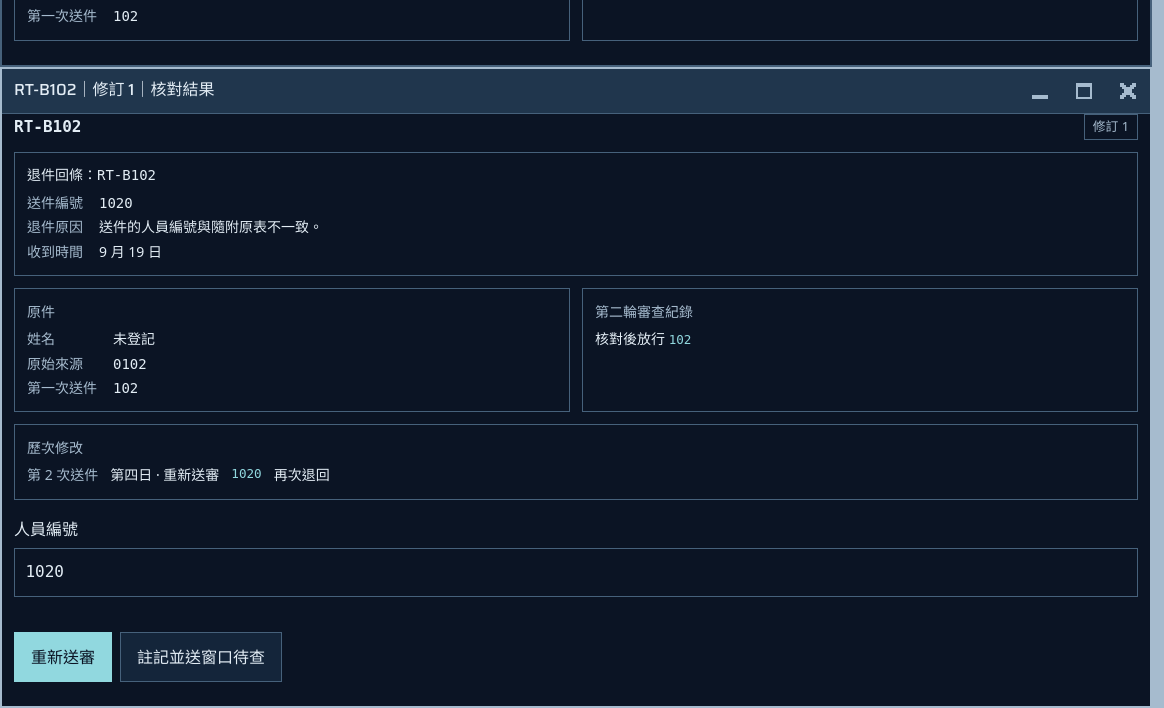
Test: MailAttachmentWindowsComponent（R12 版本鎖定附件） › 兩個視窗：處理中另一個入口先送出時，本次提交以失敗結束、不覆寫新版本；同案所有視窗改為唯讀
The image size is (1164, 708).
(page scrolled)
Expected: the form is shown, [14,512,1138,682]
Replace the text in the field labelled "人員編號" with "0102": (576, 573) [14,548,1138,597]
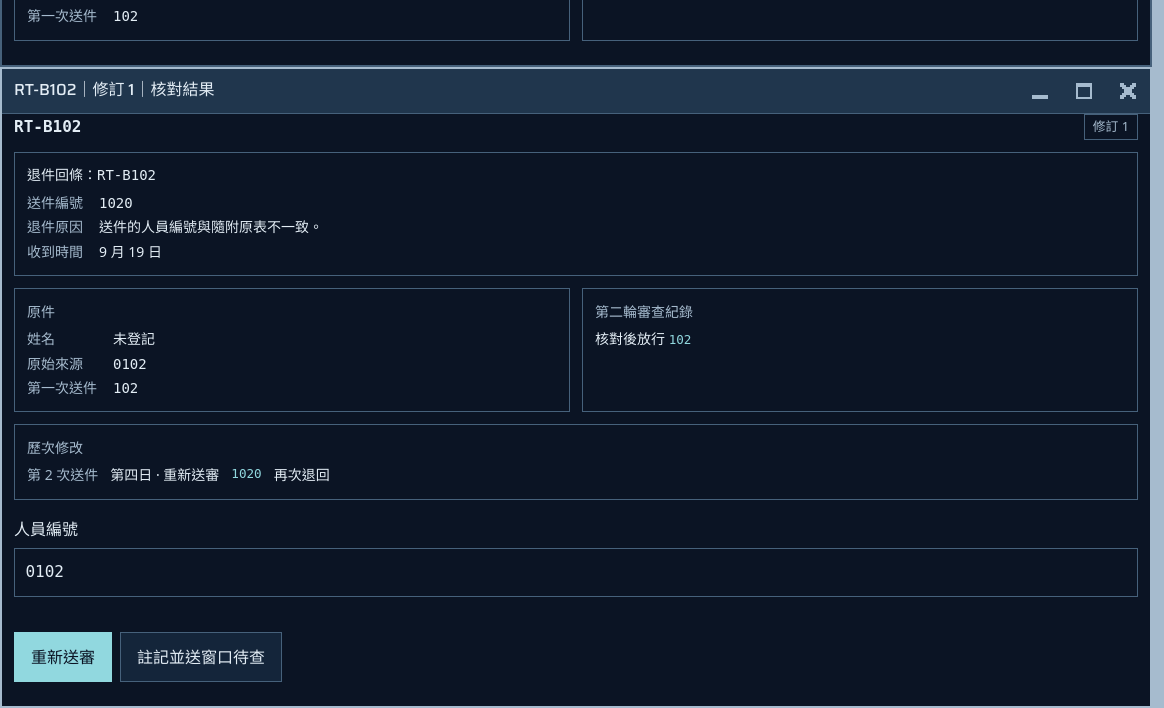
Click the button "重新送審": (63, 657) [14,632,112,682]
(page scrolled)
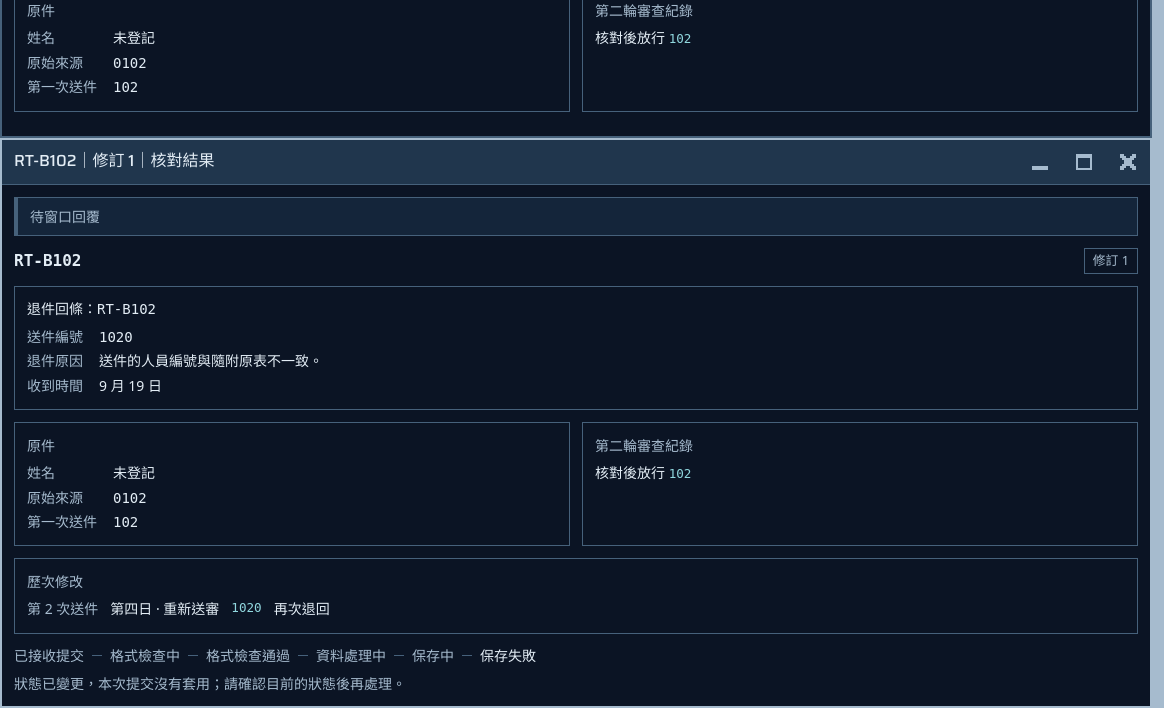
Result: the text "待窗口回覆" is shown at [14,197,1138,236]
Result: the list "已接收提交 格式檢查中 格式檢查通過 資料處理中 保存中 保存失敗" is shown at [14,646,536,665]
